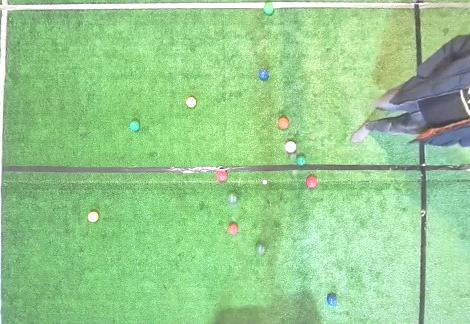blue: (327, 295, 337, 306), (259, 70, 268, 80)
green: (264, 3, 273, 15), (256, 243, 266, 253), (296, 156, 306, 166), (130, 121, 139, 131), (227, 194, 237, 203)
red: (306, 176, 318, 188), (216, 170, 227, 182), (285, 141, 296, 152), (278, 118, 289, 129), (228, 224, 238, 235)
vline: (418, 144, 469, 323), (414, 0, 469, 66), (0, 0, 11, 323)
white: (263, 180, 267, 184)
yellow: (88, 211, 99, 222), (186, 97, 196, 107)
